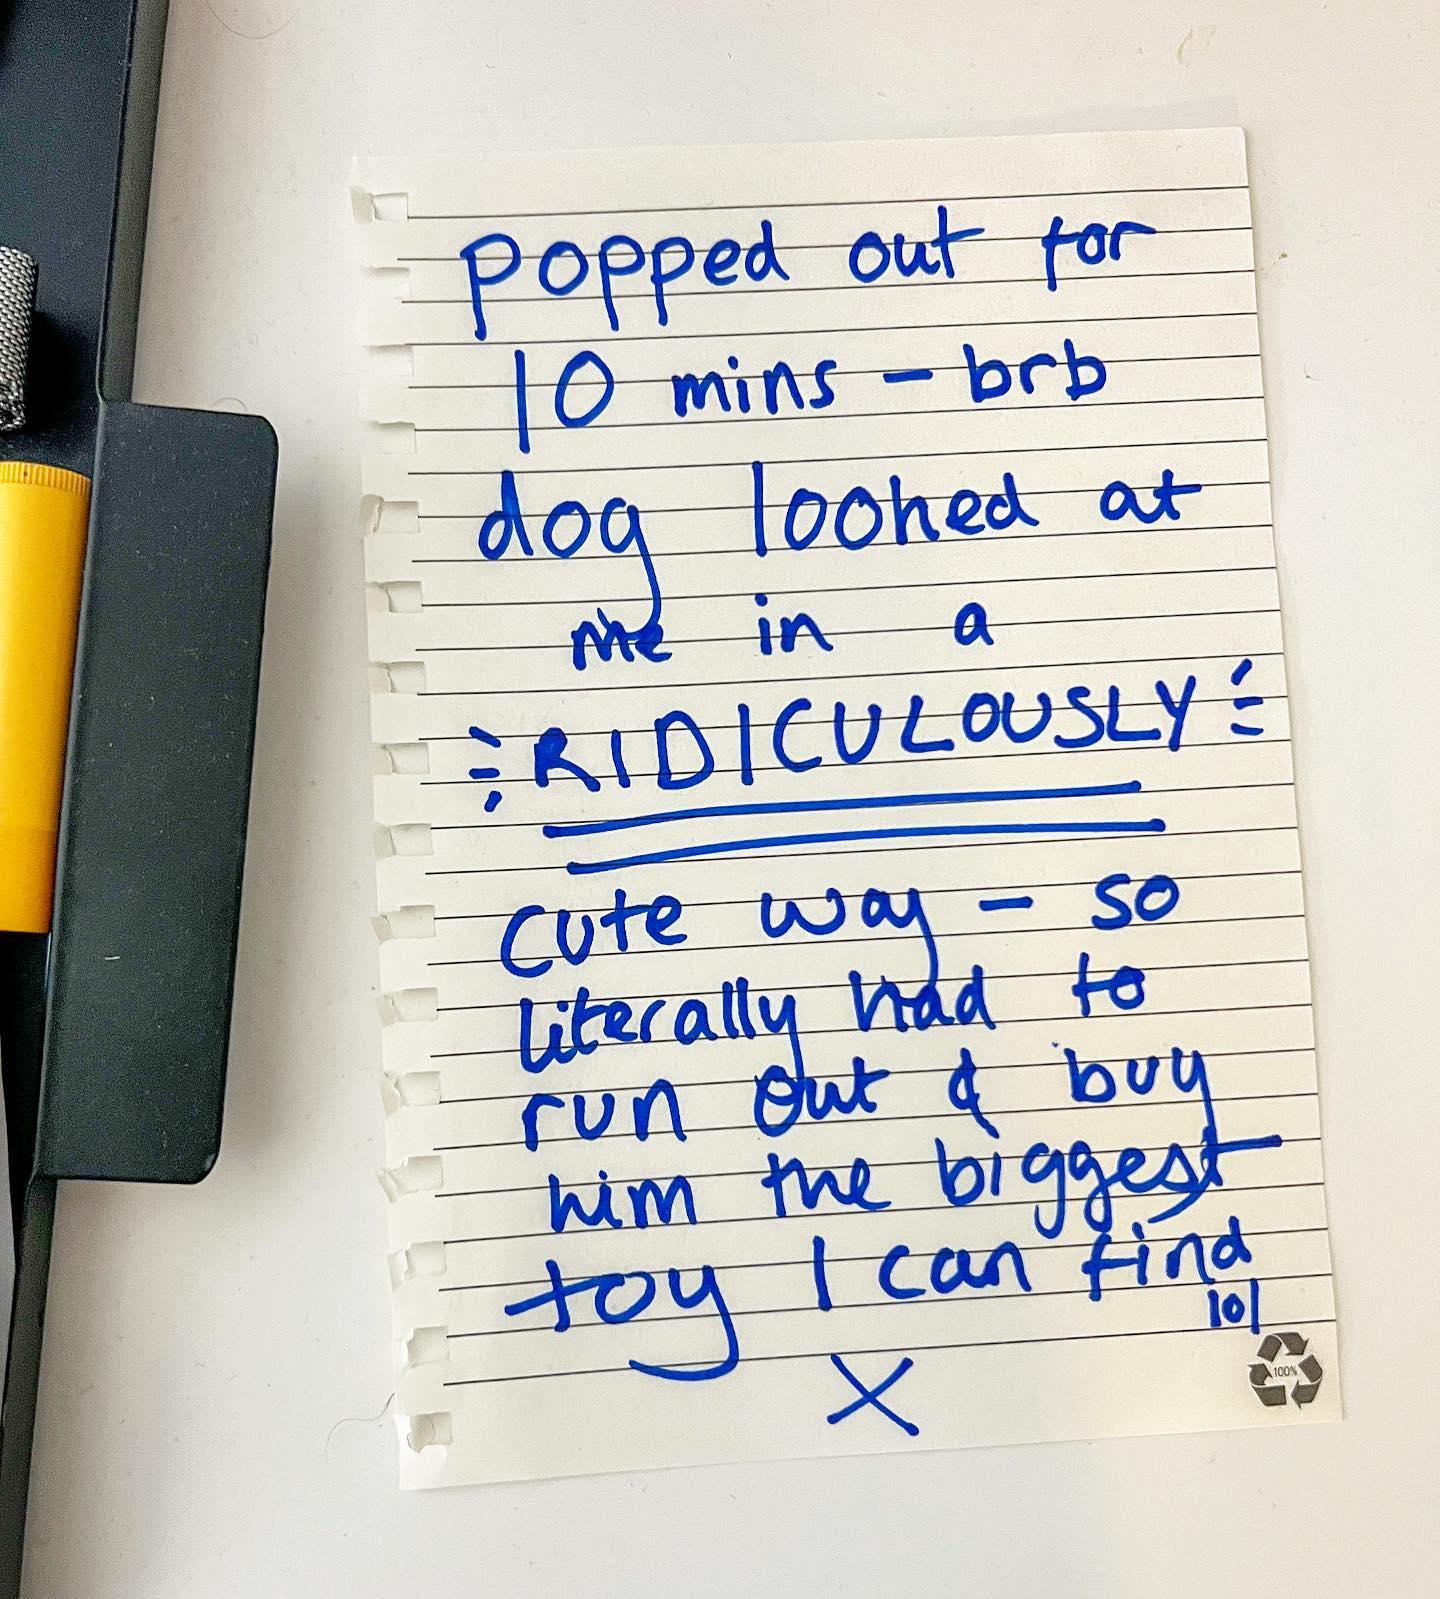text: (473, 442, 1205, 637), (503, 1207, 1259, 1390), (510, 1018, 1300, 1162), (535, 1115, 1293, 1256), (450, 203, 1158, 348), (510, 933, 1155, 1090), (528, 660, 1202, 805), (491, 861, 1190, 997), (503, 320, 1115, 467), (550, 577, 998, 680), (810, 1338, 924, 1457), (1198, 1278, 1270, 1338)
